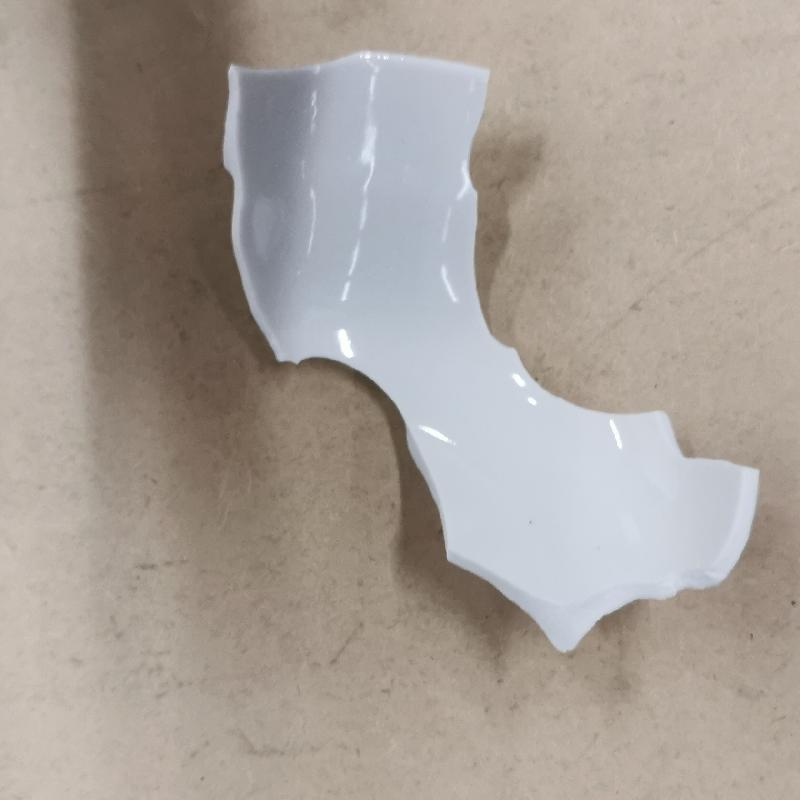ceram: (215, 49, 764, 656)
